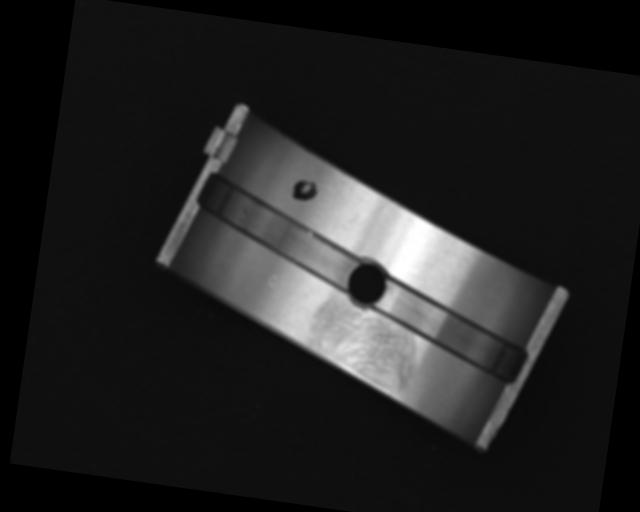blot: (290, 175, 320, 204)
bruise: (267, 271, 278, 288)
gap: (192, 177, 368, 292), (367, 280, 533, 383)
hole: (343, 256, 392, 310)
scratch: (305, 296, 425, 395)
